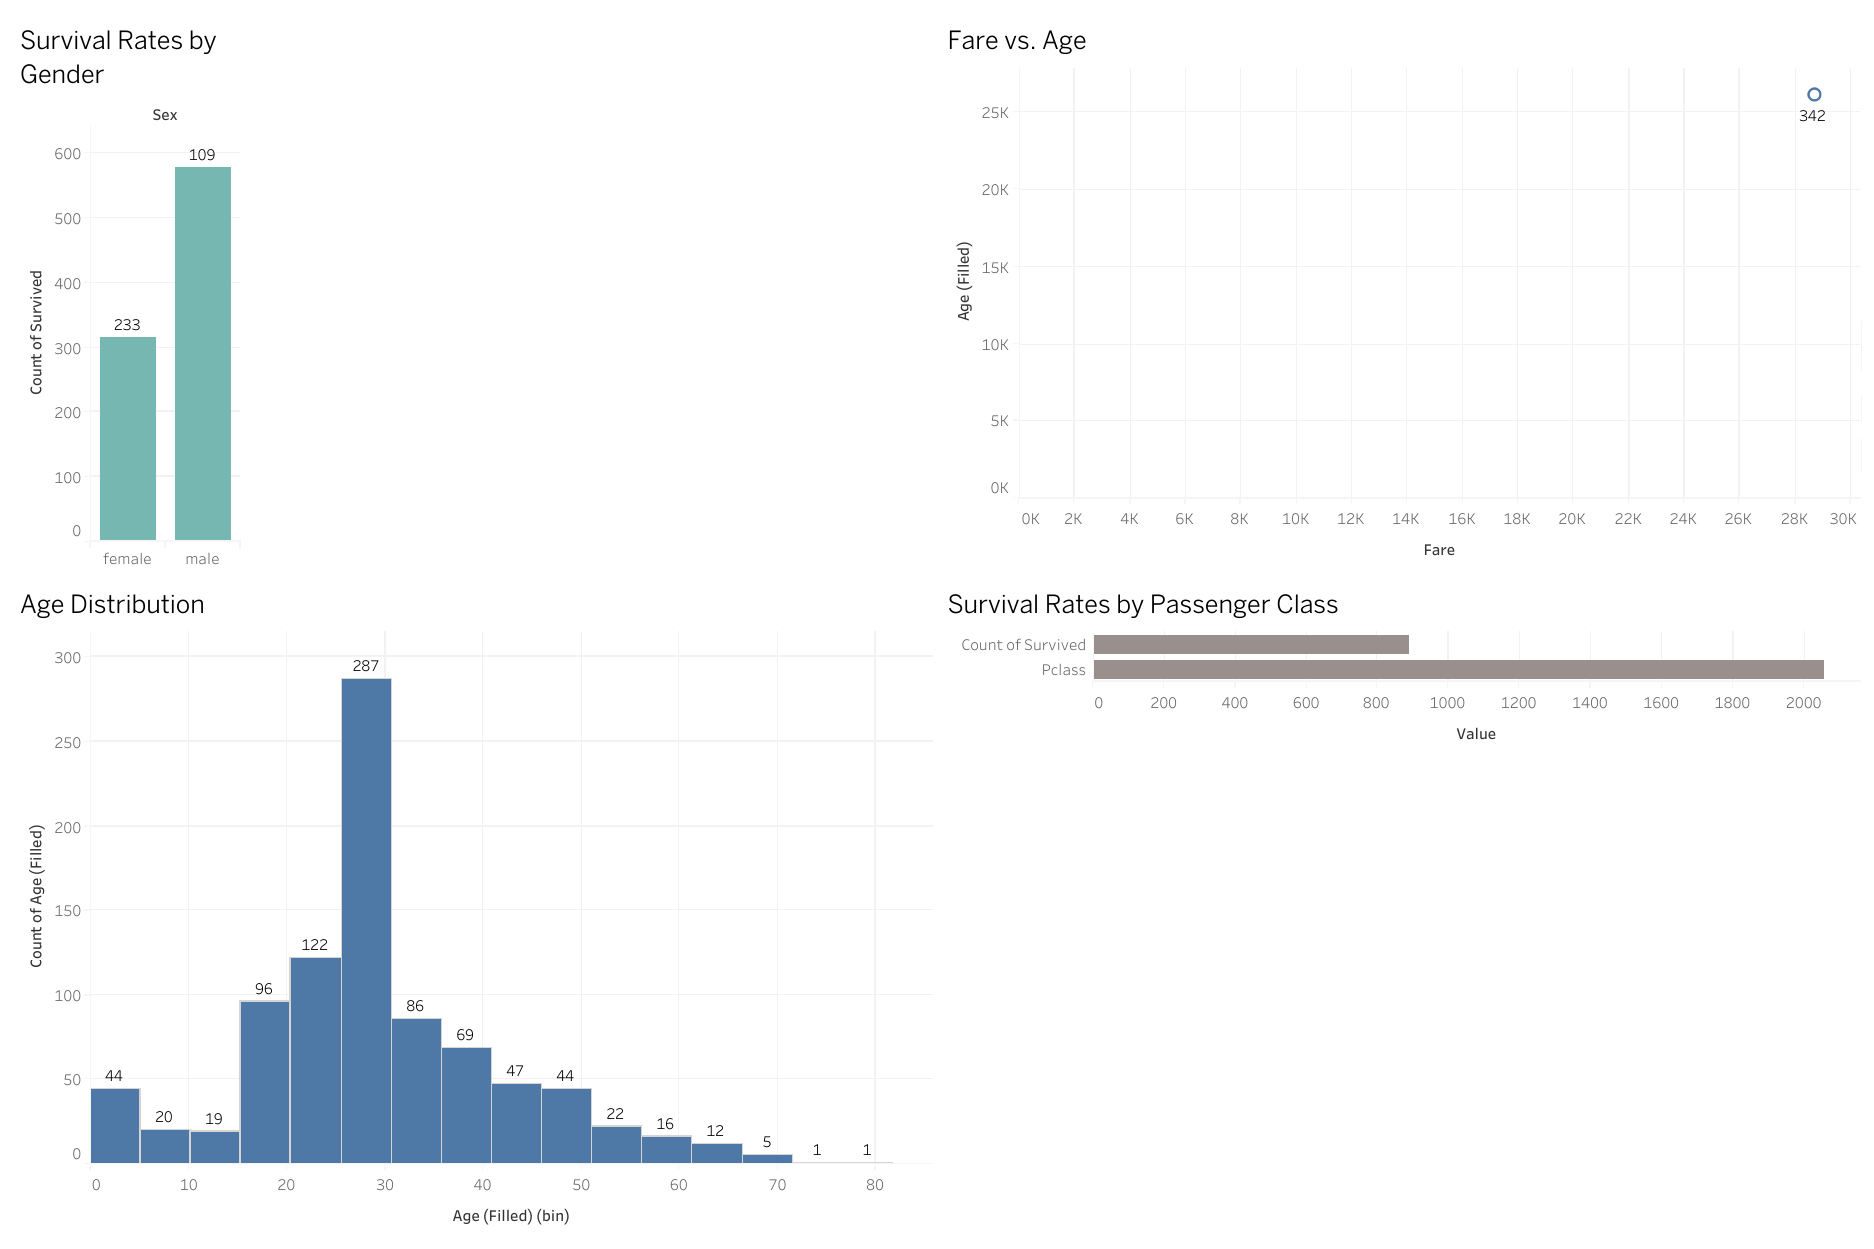

Layout of this report page (visuals, bound fields, positions):
{"tool":"tableau","page":{"name":"Dashboard 1","canvas":[1500,1000],"ordinal":0},"visuals":[{"type":"worksheet","title":"Gender","mark":"Bar","rows":["Survived"],"cols":["Sex"],"box":[8,8,742,451]},{"type":"worksheet","title":"Fare vs Age","mark":"Automatic","rows":["Calculation_1193735415881162754"],"cols":["Fare"],"box":[750,8,742,451]},{"type":"worksheet","title":"Age","mark":"Automatic","rows":["Calculation_1193735415881162754"],"cols":["Age (Filled) (bin)"],"box":[8,459,742,533]},{"type":"worksheet","title":"Class","mark":"Bar","box":[750,459,742,533]}]}

Visuals, with their boxes in screenshot pixels (x1, y1, x2, y2), scaled from the page's 1500x1000 canvas onto the 1874x1249 screenshot:
"Gender" worksheet (Bar marks): bbox=(10, 10, 937, 573)
"Fare vs Age" worksheet: bbox=(937, 10, 1864, 573)
"Age" worksheet: bbox=(10, 573, 937, 1239)
"Class" worksheet (Bar marks): bbox=(937, 573, 1864, 1239)
